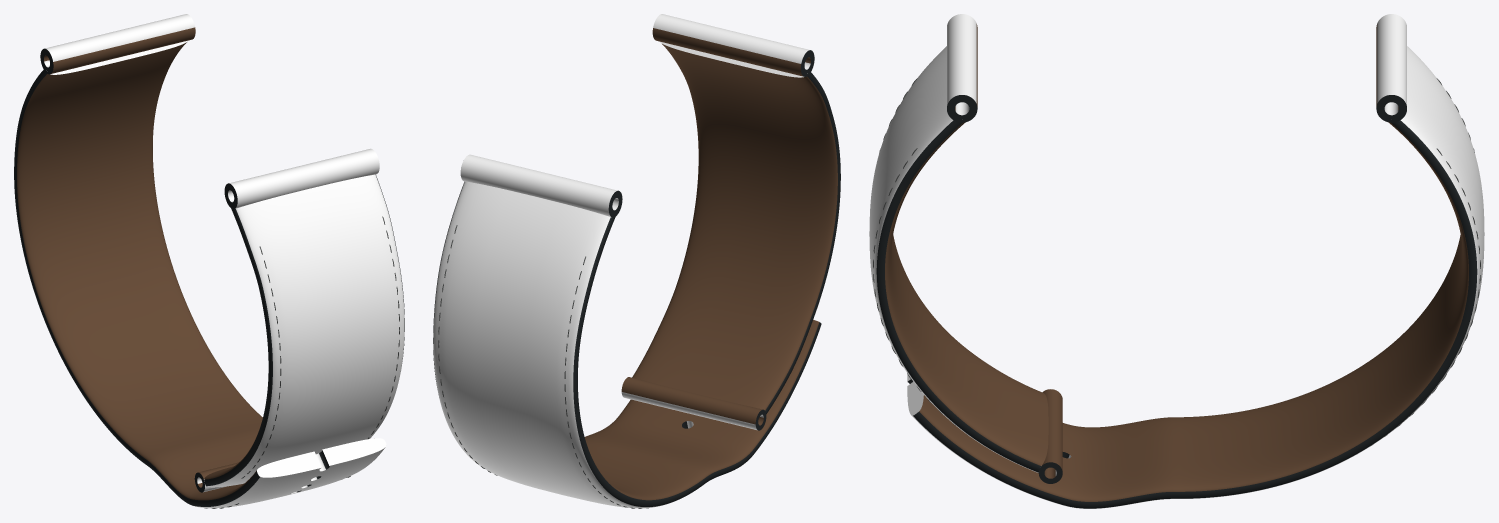
File: leather-craft-r05.glb
The picture shows the model from 3 angles, left to right: view 1: azimuth 30°, elevation 25°; view 2: azimuth 150°, elevation 25°; view 3: azimuth 270°, elevation 25°; orthographic projection. The views are drawn at different scales.
Visible parts, largest first — view 1: R05 / Upper strap · solid padded band and rolled end, R05 / Lower strap · solid padded band and rolled end, R05 / STRAP-LOWER seated stitches; view 2: R05 / Upper strap · solid padded band and rolled end, R05 / Lower strap · solid padded band and rolled end, R05 / STRAP-UPPER seated stitches; view 3: R05 / Upper strap · solid padded band and rolled end, R05 / Lower strap · solid padded band and rolled end.
Boxes of the visible parts, x1,y1,x2,y2 form: R05 / Upper strap · solid padded band and rolled end: (14, 14, 386, 508); R05 / Lower strap · solid padded band and rolled end: (194, 148, 404, 492); R05 / STRAP-LOWER seated stitches: (241, 216, 399, 478); R05 / Upper strap · solid padded band and rolled end: (433, 154, 821, 508); R05 / Lower strap · solid padded band and rolled end: (621, 14, 840, 430); R05 / STRAP-UPPER seated stitches: (438, 225, 648, 508); R05 / Upper strap · solid padded band and rolled end: (907, 14, 1484, 508); R05 / Lower strap · solid padded band and rolled end: (869, 14, 1062, 483).
Bounding box in the file's own units: 20 × 48.84 × 64.14.
